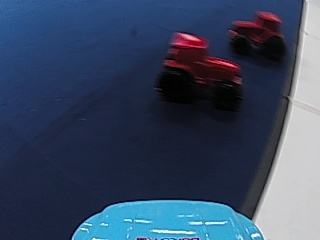tractor: (156, 27, 244, 108), (226, 10, 286, 60)
